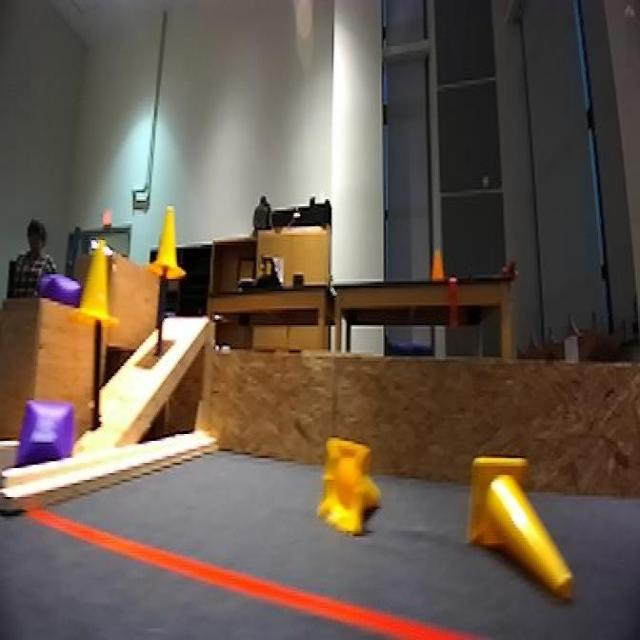frc_cone: (465, 458, 576, 606), (314, 437, 386, 538), (79, 221, 121, 334), (158, 215, 182, 291)
frc_cube: (23, 396, 65, 472), (22, 266, 86, 306)
